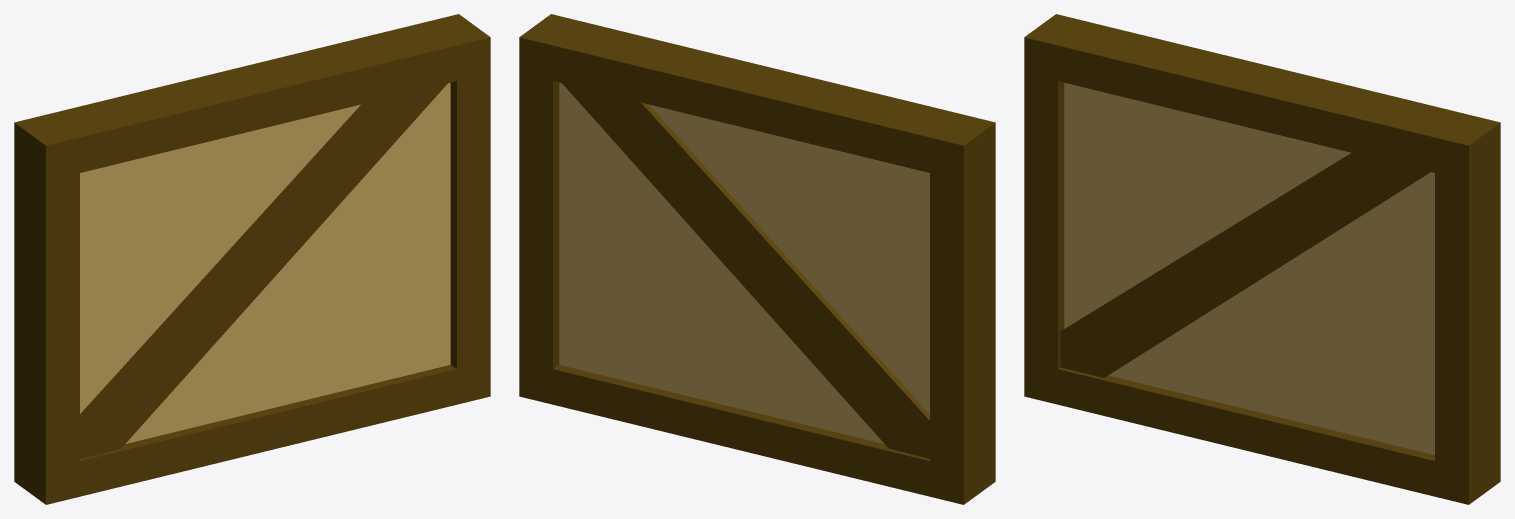
Rendered from Wall02_topSmall.fbx.
3 renders of one model, left to right at view 1: azimuth 30°, elevation 25°; view 2: azimuth 150°, elevation 25°; view 3: azimuth 330°, elevation 25°, orthographic.
Parts seen in each view (by area): view 1: WallSmall_02; view 2: WallSmall_02; view 3: WallSmall_02.
Boxes of the visible parts, left/top/right/bottom form: WallSmall_02: left=14, top=14, right=490, bottom=504; WallSmall_02: left=519, top=14, right=995, bottom=504; WallSmall_02: left=1024, top=14, right=1500, bottom=504.
Bounding box in the file's own units: 261 × 201 × 32.4.
